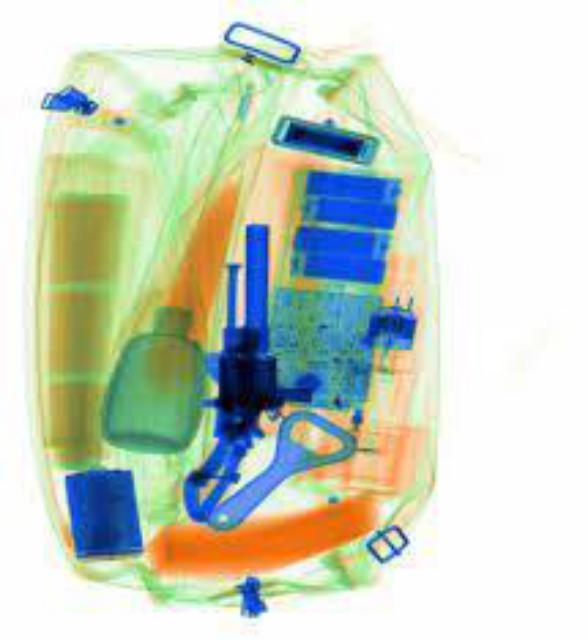Gun: (178, 220, 310, 520)
